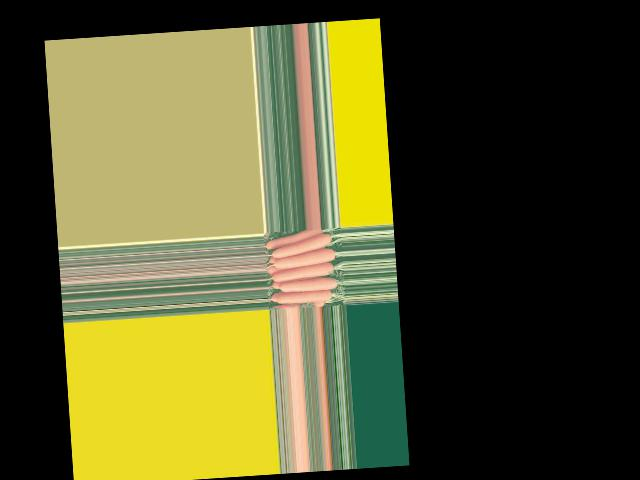carrot: (266, 228, 325, 250)
